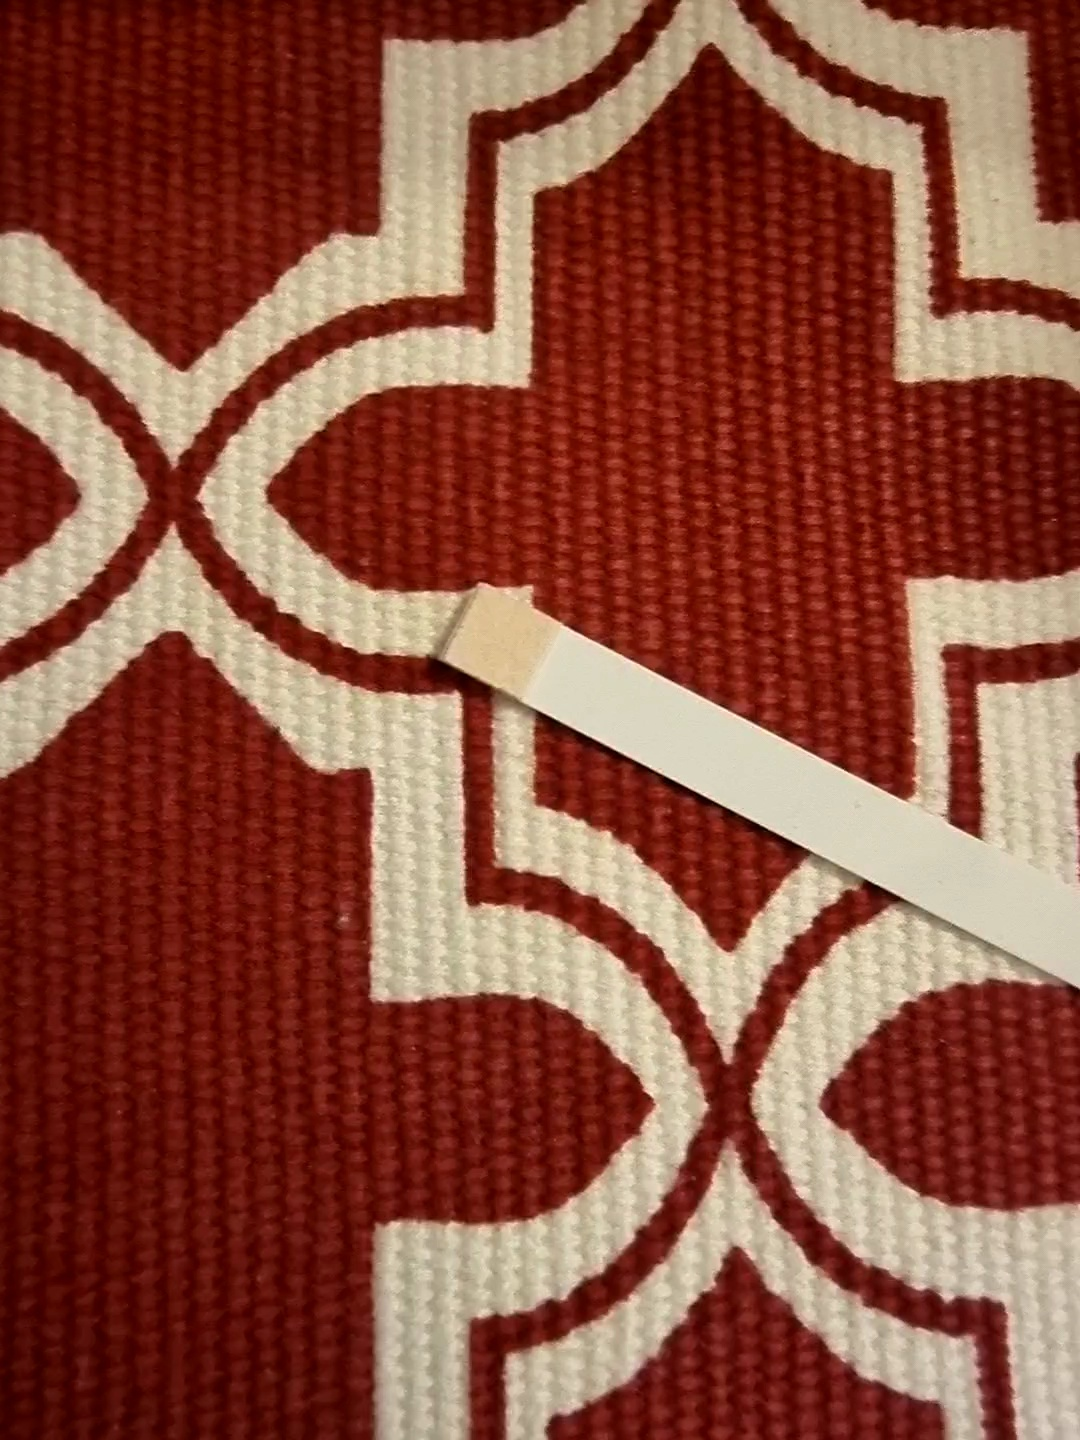keto-tip: (424, 576, 569, 709)
